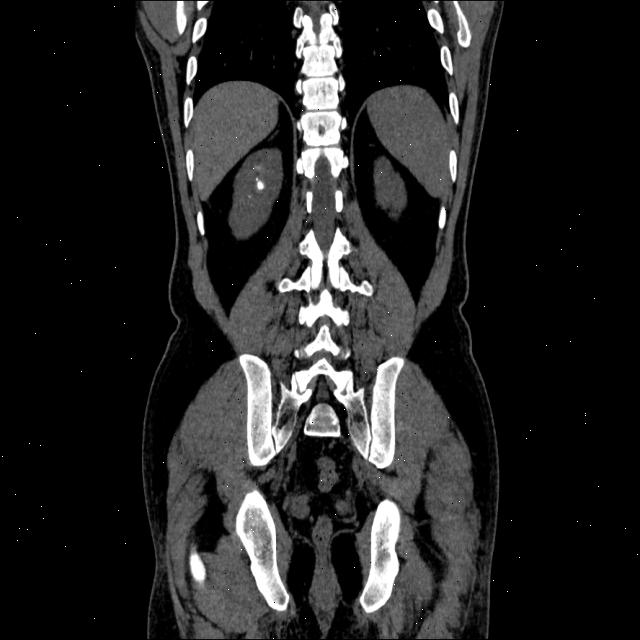kidneystone: (256, 178, 264, 189)
